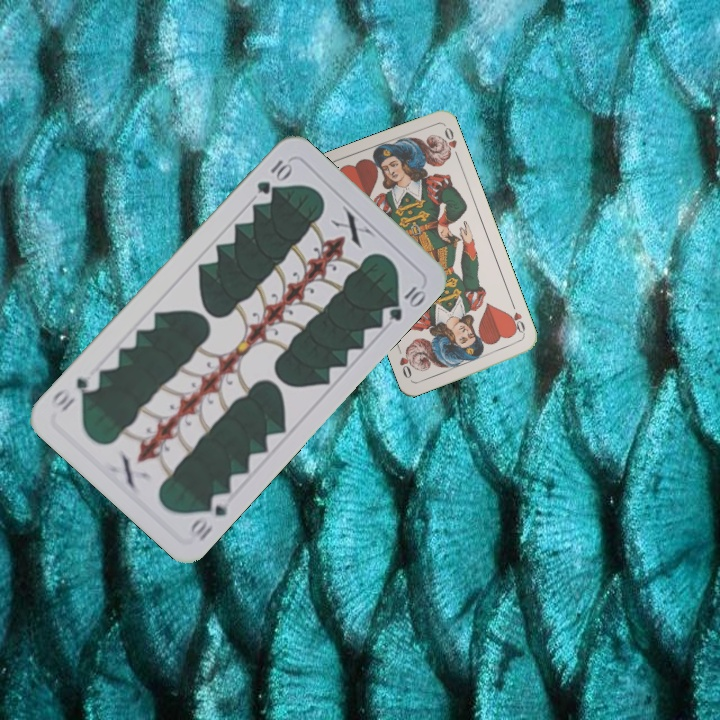G10: (184, 489, 234, 544), (252, 155, 295, 197)
HO: (504, 299, 528, 338)
